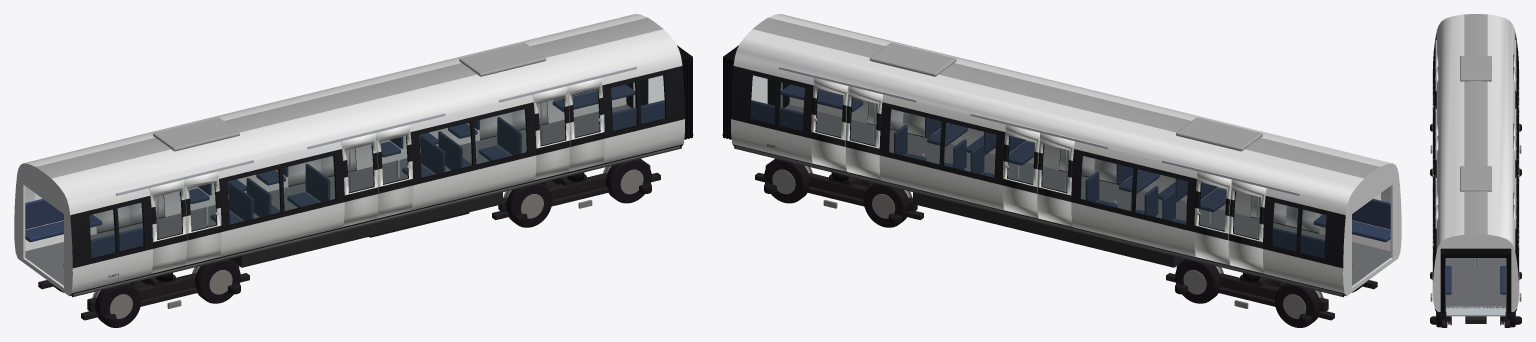
File: mp89_car.glb
3 views of the same model, side by side, from view 1: azimuth 30°, elevation 25°; view 2: azimuth 150°, elevation 25°; view 3: azimuth 270°, elevation 25° (orthographic). The views are drawn at different scales.
Visible parts, largest first — view 1: METRO_MP89_CA-L4-6voit_V2_Caisse, METRO_MP89_CA-L4-6voit_V2_BaieG1, METRO_MP89_CA-L4-6voit_V2_PorteD2_AV.002, METRO_MP89_CA-L4-6voit_V2_PorteD1_AV.002, METRO_MP89_CA-L4-6voit_V2_PorteD3_AV.002, METRO_MP89_CA-L4-6voit_V2_PorteD2_AR.002, METRO_MP89_CA-L4-6voit_V2_PorteD1_AR.002, METRO_MP89_CA-L4-6voit_V2_PorteD3_AR.002, METRO_MP89_CA-L4-6voit_V2_PorteD1_AV_Vitre, METRO_MP89_CA-L4-6voit_V2_PorteD1_AR_Vitre, METRO_MP89_CA-L4-6voit_V2_PorteD3_AR_Vitre, METRO_MP89_CA-L4-6voit_V2_PorteD2_AV_Vitre (+5 smaller); view 2: METRO_MP89_CA-L4-6voit_V2_Caisse, METRO_MP89_CA-L4-6voit_V2_BaieG1, METRO_MP89_CA-L4-6voit_V2_PorteG2_AV.002, METRO_MP89_CA-L4-6voit_V2_PorteG1_AV.002, METRO_MP89_CA-L4-6voit_V2_PorteG3_AV.002, METRO_MP89_CA-L4-6voit_V2_PorteG2_AR.002, METRO_MP89_CA-L4-6voit_V2_PorteG1_AR.002, METRO_MP89_CA-L4-6voit_V2_PorteG3_AR.002, METRO_MP89_CA-L4-6voit_V2_PorteG1_AV_Vitre, METRO_MP89_CA-L4-6voit_V2_PorteG1_AR_Vitre, METRO_MP89_CA-L4-6voit_V2_PorteG3_AR_Vitre, METRO_MP89_CA-L4-6voit_V2_PorteG2_AV_Vitre (+3 smaller); view 3: METRO_MP89_CA-L4-6voit_V2_Caisse, METRO_MP89_CA-L4-6voit_V2_BaieG1, METRO_MP89_CA-L4-6voit_V2_PorteG2_AV.002, METRO_MP89_CA-L4-6voit_V2_PorteD2_AV.002, METRO_MP89_CA-L4-6voit_V2_PorteG3_AV.002, METRO_MP89_CA-L4-6voit_V2_PorteD3_AV.002, METRO_MP89_CA-L4-6voit_V2_PorteG1_AV.002, METRO_MP89_CA-L4-6voit_V2_PorteD1_AV.002, METRO_MP89_CA-L4-6voit_V2_PorteG2_AR.002, METRO_MP89_CA-L4-6voit_V2_PorteG3_AR.002, METRO_MP89_CA-L4-6voit_V2_PorteD2_AR.002, METRO_MP89_CA-L4-6voit_V2_PorteD3_AR.002 (+2 smaller).
Boxes of the visible parts, x1,y1,x2,y2 form: METRO_MP89_CA-L4-6voit_V2_Caisse: [14, 14, 693, 327]; METRO_MP89_CA-L4-6voit_V2_BaieG1: [35, 75, 665, 258]; METRO_MP89_CA-L4-6voit_V2_PorteD2_AV.002: [376, 124, 413, 218]; METRO_MP89_CA-L4-6voit_V2_PorteD1_AV.002: [567, 77, 604, 171]; METRO_MP89_CA-L4-6voit_V2_PorteD3_AV.002: [184, 171, 221, 265]; METRO_MP89_CA-L4-6voit_V2_PorteD2_AR.002: [341, 133, 378, 226]; METRO_MP89_CA-L4-6voit_V2_PorteD1_AR.002: [532, 86, 570, 179]; METRO_MP89_CA-L4-6voit_V2_PorteD3_AR.002: [149, 179, 187, 273]; METRO_MP89_CA-L4-6voit_V2_PorteD1_AV_Vitre: [572, 89, 599, 136]; METRO_MP89_CA-L4-6voit_V2_PorteD1_AR_Vitre: [538, 98, 564, 145]; METRO_MP89_CA-L4-6voit_V2_PorteD3_AR_Vitre: [155, 191, 181, 238]; METRO_MP89_CA-L4-6voit_V2_PorteD2_AV_Vitre: [381, 136, 407, 183]; METRO_MP89_CA-L4-6voit_V2_Caisse: [722, 14, 1401, 327]; METRO_MP89_CA-L4-6voit_V2_BaieG1: [750, 75, 1380, 258]; METRO_MP89_CA-L4-6voit_V2_PorteG2_AV.002: [1002, 124, 1039, 218]; METRO_MP89_CA-L4-6voit_V2_PorteG1_AV.002: [811, 77, 848, 171]; METRO_MP89_CA-L4-6voit_V2_PorteG3_AV.002: [1194, 171, 1231, 265]; METRO_MP89_CA-L4-6voit_V2_PorteG2_AR.002: [1037, 133, 1074, 226]; METRO_MP89_CA-L4-6voit_V2_PorteG1_AR.002: [845, 86, 883, 179]; METRO_MP89_CA-L4-6voit_V2_PorteG3_AR.002: [1228, 179, 1266, 273]; METRO_MP89_CA-L4-6voit_V2_PorteG1_AV_Vitre: [816, 89, 843, 136]; METRO_MP89_CA-L4-6voit_V2_PorteG1_AR_Vitre: [851, 98, 877, 145]; METRO_MP89_CA-L4-6voit_V2_PorteG3_AR_Vitre: [1234, 191, 1260, 238]; METRO_MP89_CA-L4-6voit_V2_PorteG2_AV_Vitre: [1008, 136, 1034, 183]; METRO_MP89_CA-L4-6voit_V2_Caisse: [1430, 14, 1521, 327]; METRO_MP89_CA-L4-6voit_V2_BaieG1: [1434, 102, 1517, 208]; METRO_MP89_CA-L4-6voit_V2_PorteG2_AV.002: [1513, 136, 1519, 203]; METRO_MP89_CA-L4-6voit_V2_PorteD2_AV.002: [1432, 136, 1438, 203]; METRO_MP89_CA-L4-6voit_V2_PorteG3_AV.002: [1513, 67, 1519, 132]; METRO_MP89_CA-L4-6voit_V2_PorteD3_AV.002: [1432, 67, 1438, 132]; METRO_MP89_CA-L4-6voit_V2_PorteG1_AV.002: [1513, 205, 1519, 260]; METRO_MP89_CA-L4-6voit_V2_PorteD1_AV.002: [1432, 205, 1438, 260]; METRO_MP89_CA-L4-6voit_V2_PorteG2_AR.002: [1513, 123, 1519, 183]; METRO_MP89_CA-L4-6voit_V2_PorteG3_AR.002: [1513, 54, 1519, 114]; METRO_MP89_CA-L4-6voit_V2_PorteD2_AR.002: [1432, 123, 1438, 183]; METRO_MP89_CA-L4-6voit_V2_PorteD3_AR.002: [1432, 54, 1438, 109].
Bounding box in the file's own units: 15.2 × 3.47 × 2.6.
Materials: 5 (5 with a texture image).
